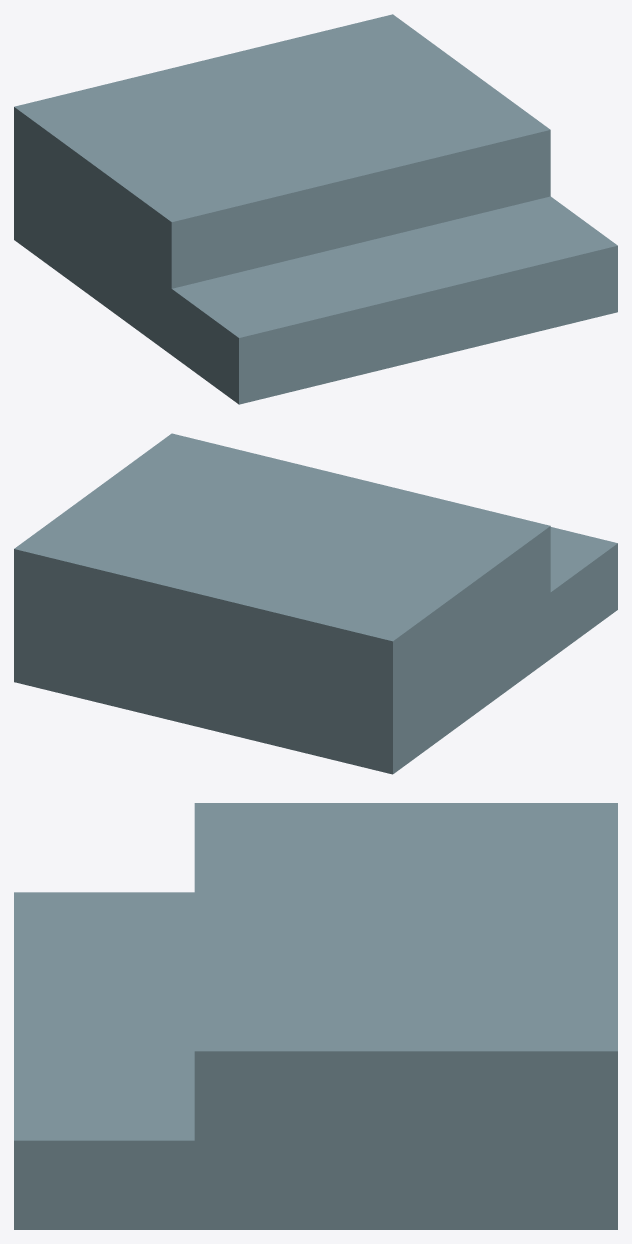
Rendered from Conductor_Stand.fbx.
3 renders of one model, top to bottom at view 1: azimuth 30°, elevation 25°; view 2: azimuth 150°, elevation 25°; view 3: azimuth 270°, elevation 25°, orthographic. The views are drawn at different scales.
Visible parts, largest first — view 1: Conductor_Stand; view 2: Conductor_Stand; view 3: Conductor_Stand.
Boxes of the visible parts, box(x1,y1,x2,y2) form: Conductor_Stand: box(14, 14, 617, 404); Conductor_Stand: box(14, 433, 617, 774); Conductor_Stand: box(14, 803, 617, 1229).
Size of the model in its own units: 78.94 by 26.52 by 81.22.
